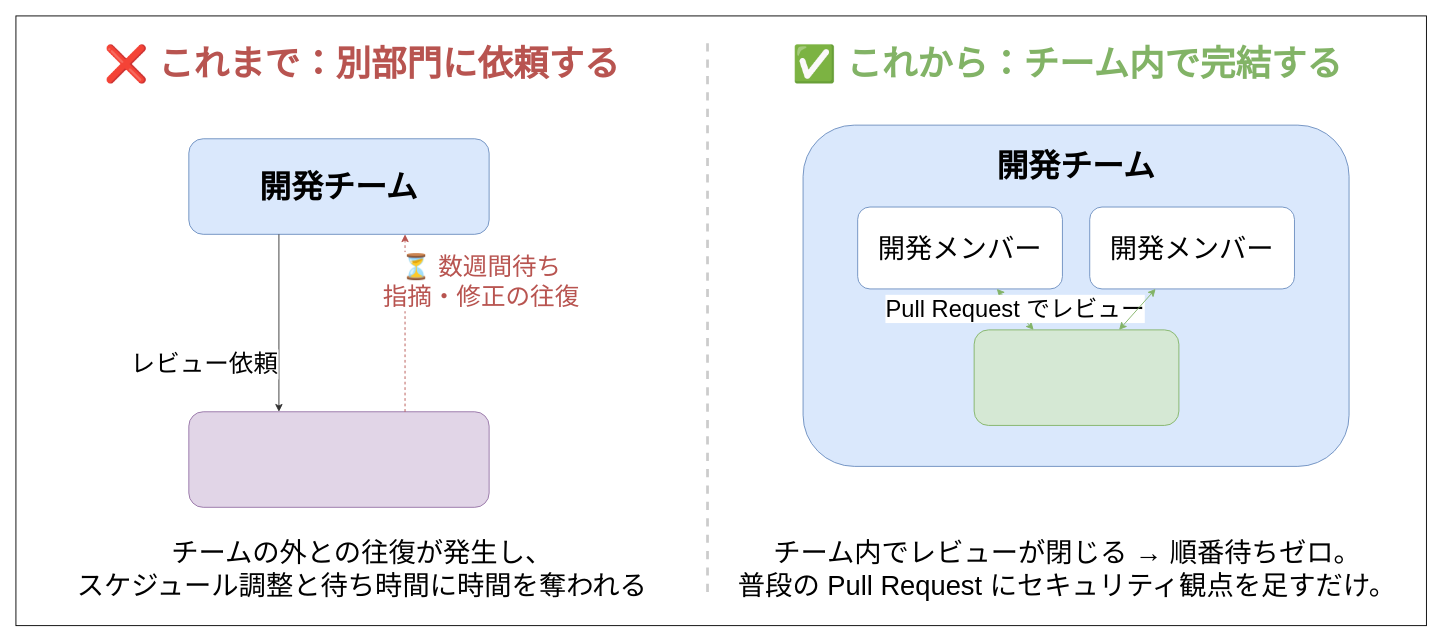
This 1442x642 diagram has some shape labels left out. The centre of each missing label's shape, as x and y in pixels:
🛡️ セキュリティ 有資格メンバー: (1076,377)
🛡️ セキュリティ部門: (338,459)
